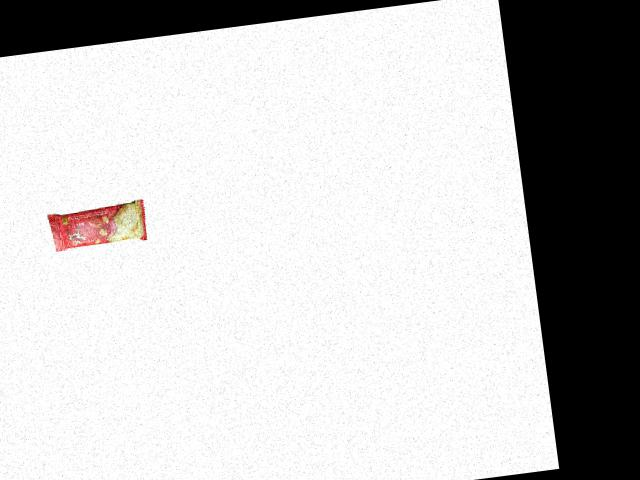chocolate: (39, 192, 148, 255)
